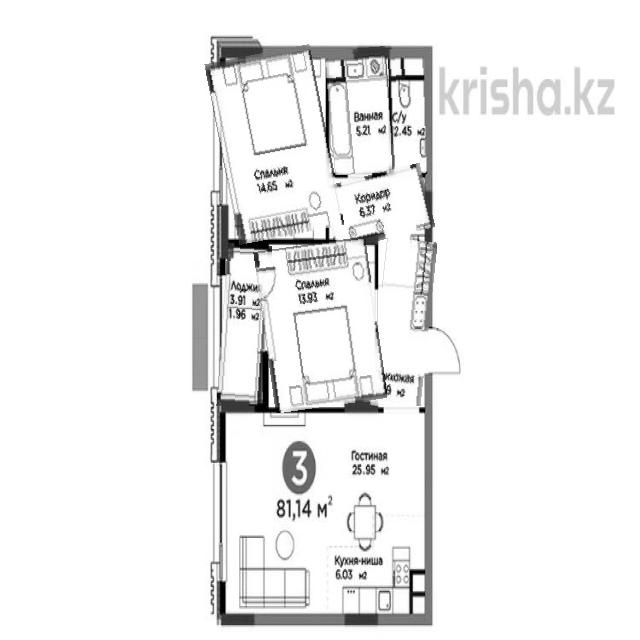balcony: (219, 243, 270, 409)
bathroom: (326, 47, 393, 174), (389, 48, 432, 175)
hallway: (374, 238, 433, 409), (324, 168, 432, 246)
living_room: (213, 48, 336, 241), (259, 240, 382, 410)
studio: (220, 406, 430, 618)
